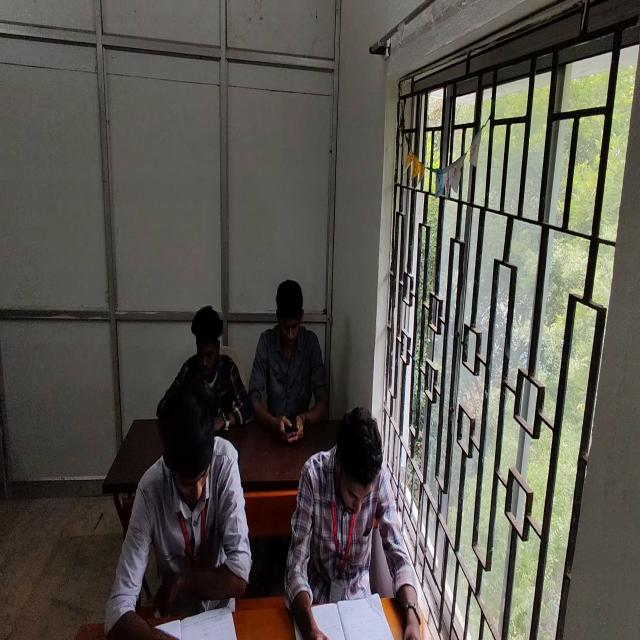reading: (277, 399, 438, 640), (105, 389, 250, 640)
using_mobile: (241, 264, 332, 458), (151, 281, 255, 444)
